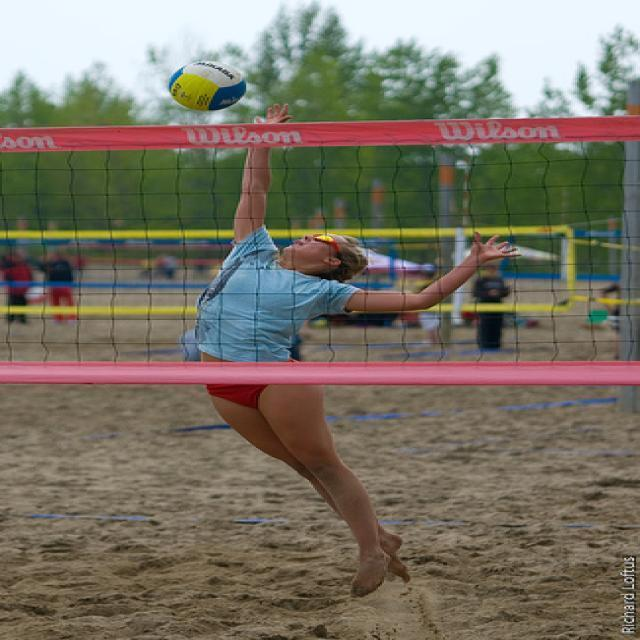volleyball: (168, 62, 246, 112)
